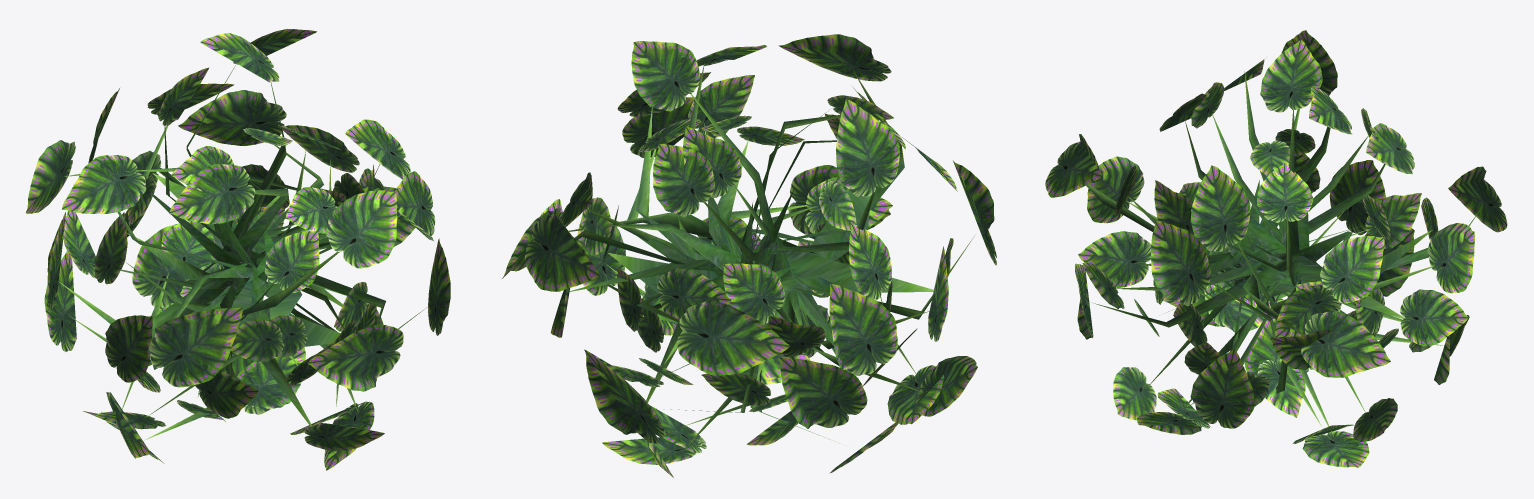
File: StemmedBroadleafAir3.fbx
The picture shows the model from 3 angles, left to right: view 1: azimuth 30°, elevation 25°; view 2: azimuth 150°, elevation 25°; view 3: azimuth 270°, elevation 25°; orthographic projection. The views are drawn at different scales.
Parts seen in each view (by area): view 1: Cube.001; view 2: Cube.001; view 3: Cube.001.
Part boxes in pixels (x1,y1,x2,y2): Cube.001: [26, 29, 450, 470]; Cube.001: [502, 34, 996, 477]; Cube.001: [1045, 30, 1507, 467].
Size of the model in its own units: 1152 by 1191 by 1317.
